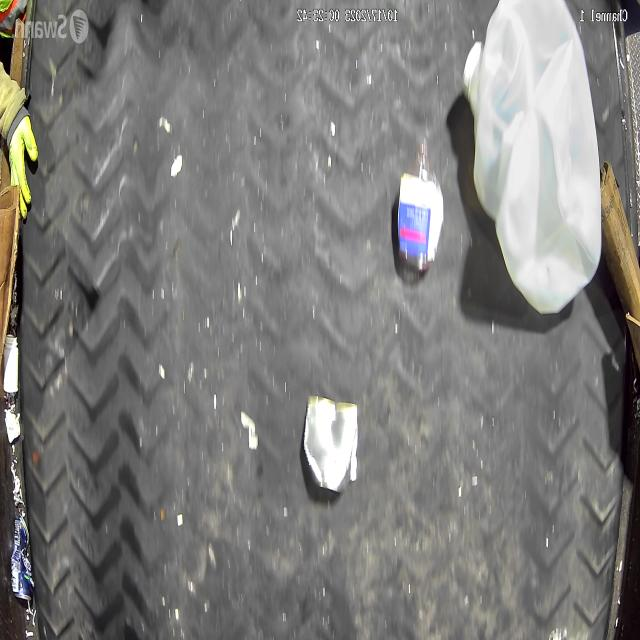can: (302, 392, 359, 497), (10, 514, 34, 602)
milk_jug: (465, 0, 602, 315)
